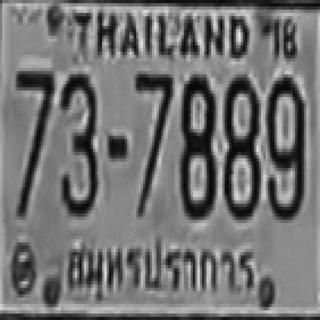N03: (58, 71, 96, 213)
N07: (14, 68, 52, 213), (134, 71, 172, 213), (14, 68, 52, 181), (134, 71, 172, 181), (14, 68, 52, 165), (134, 71, 172, 165)
N08: (222, 74, 259, 217), (179, 73, 213, 215)
N09: (266, 74, 302, 217)
P57: (58, 228, 260, 302)
